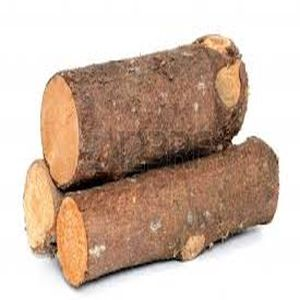log: (37, 68, 87, 195), (52, 193, 92, 289), (19, 157, 56, 256)
